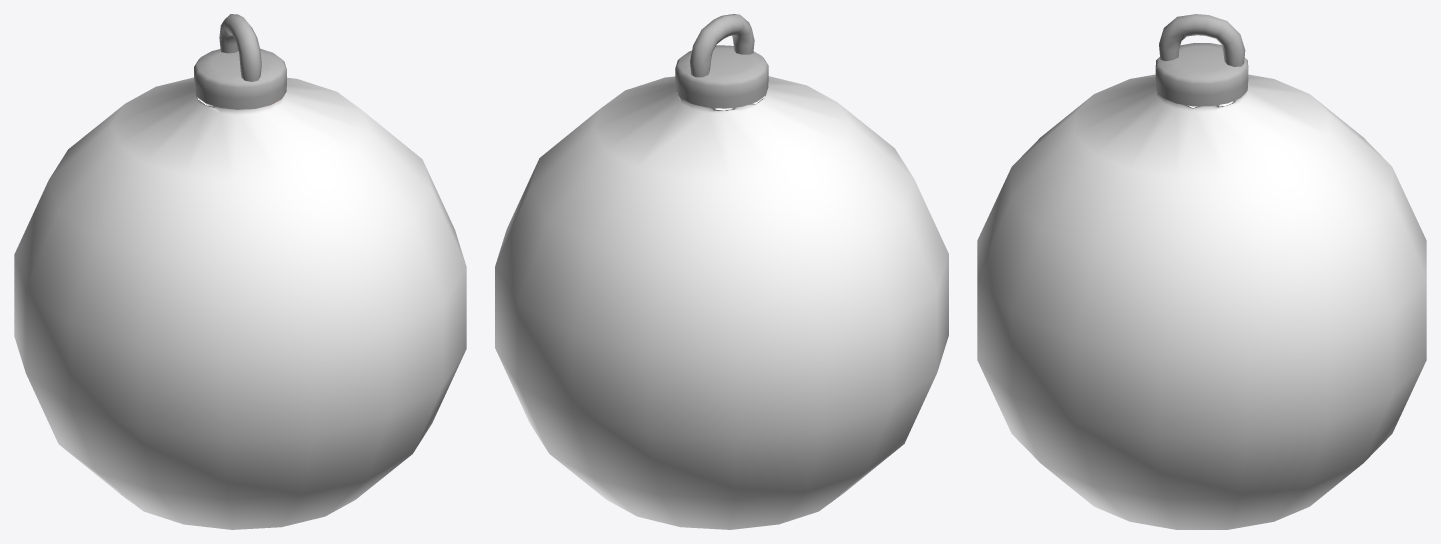
File: bauble.fbx
3 views of the same model, side by side, from view 1: azimuth 30°, elevation 25°; view 2: azimuth 150°, elevation 25°; view 3: azimuth 270°, elevation 25° (orthographic).
Visible parts, largest first — view 1: bauble.lod0; view 2: bauble.lod0; view 3: bauble.lod0.
Boxes of the visible parts, <box> form: bauble.lod0: <box>14,14,466,529</box>; bauble.lod0: <box>495,14,948,529</box>; bauble.lod0: <box>977,14,1426,529</box>.
Size of what is drawn, in the model's own units: 192 by 235 by 192.
